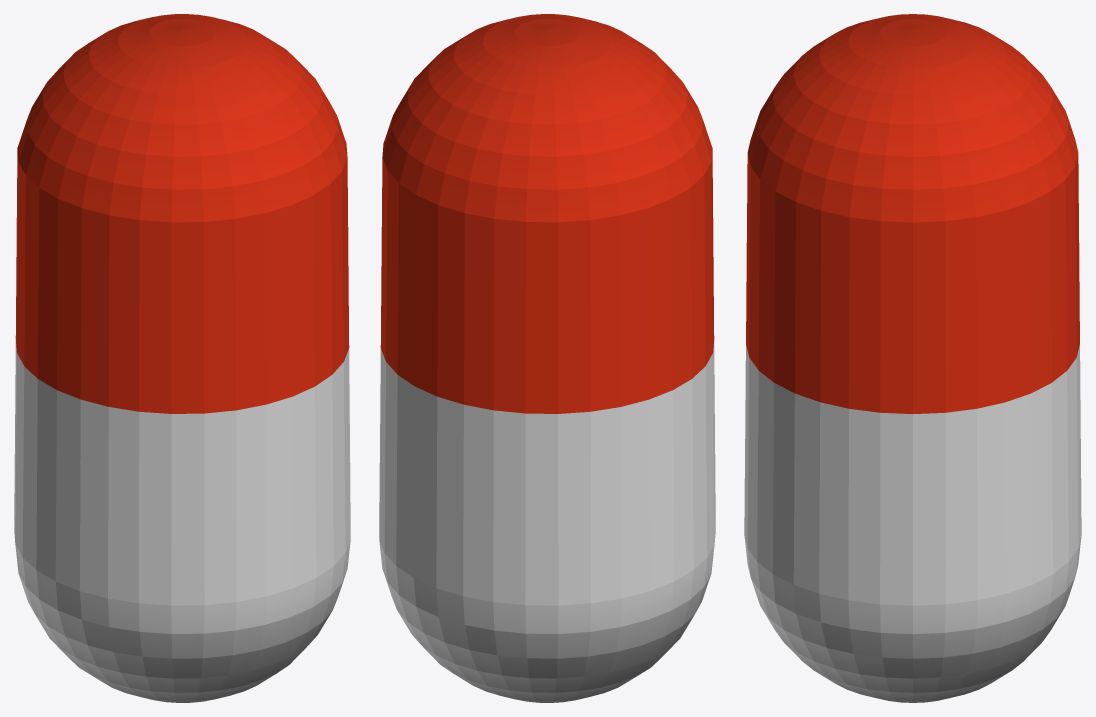
File: heal.glb
3 views of the same model, side by side, from view 1: azimuth 30°, elevation 25°; view 2: azimuth 150°, elevation 25°; view 3: azimuth 270°, elevation 25° (orthographic).
Visible parts, largest first — view 1: Sphere; view 2: Sphere; view 3: Sphere.
Part boxes in pixels (bbox=[...]): Sphere: bbox=[14, 14, 350, 702]; Sphere: bbox=[379, 14, 715, 702]; Sphere: bbox=[744, 14, 1081, 702].
Bounding box in the file's own units: 2 × 4.3 × 2.
1 material, 1 textured.
